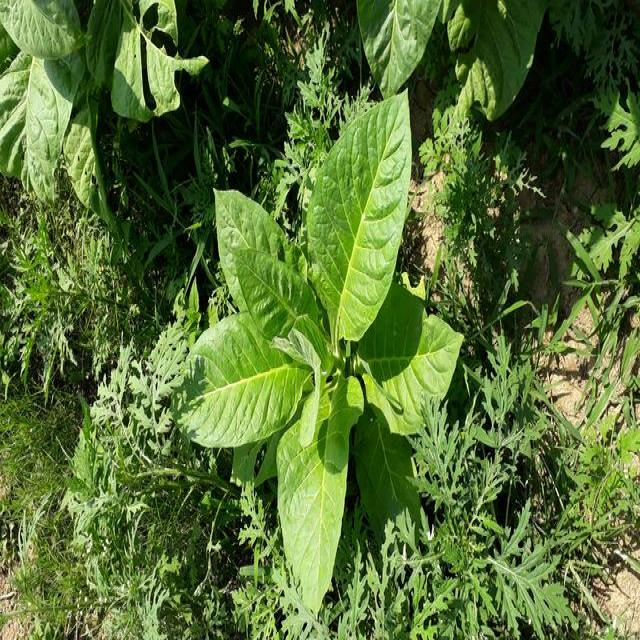crop: (174, 106, 468, 590), (0, 0, 203, 190), (350, 0, 550, 112)
